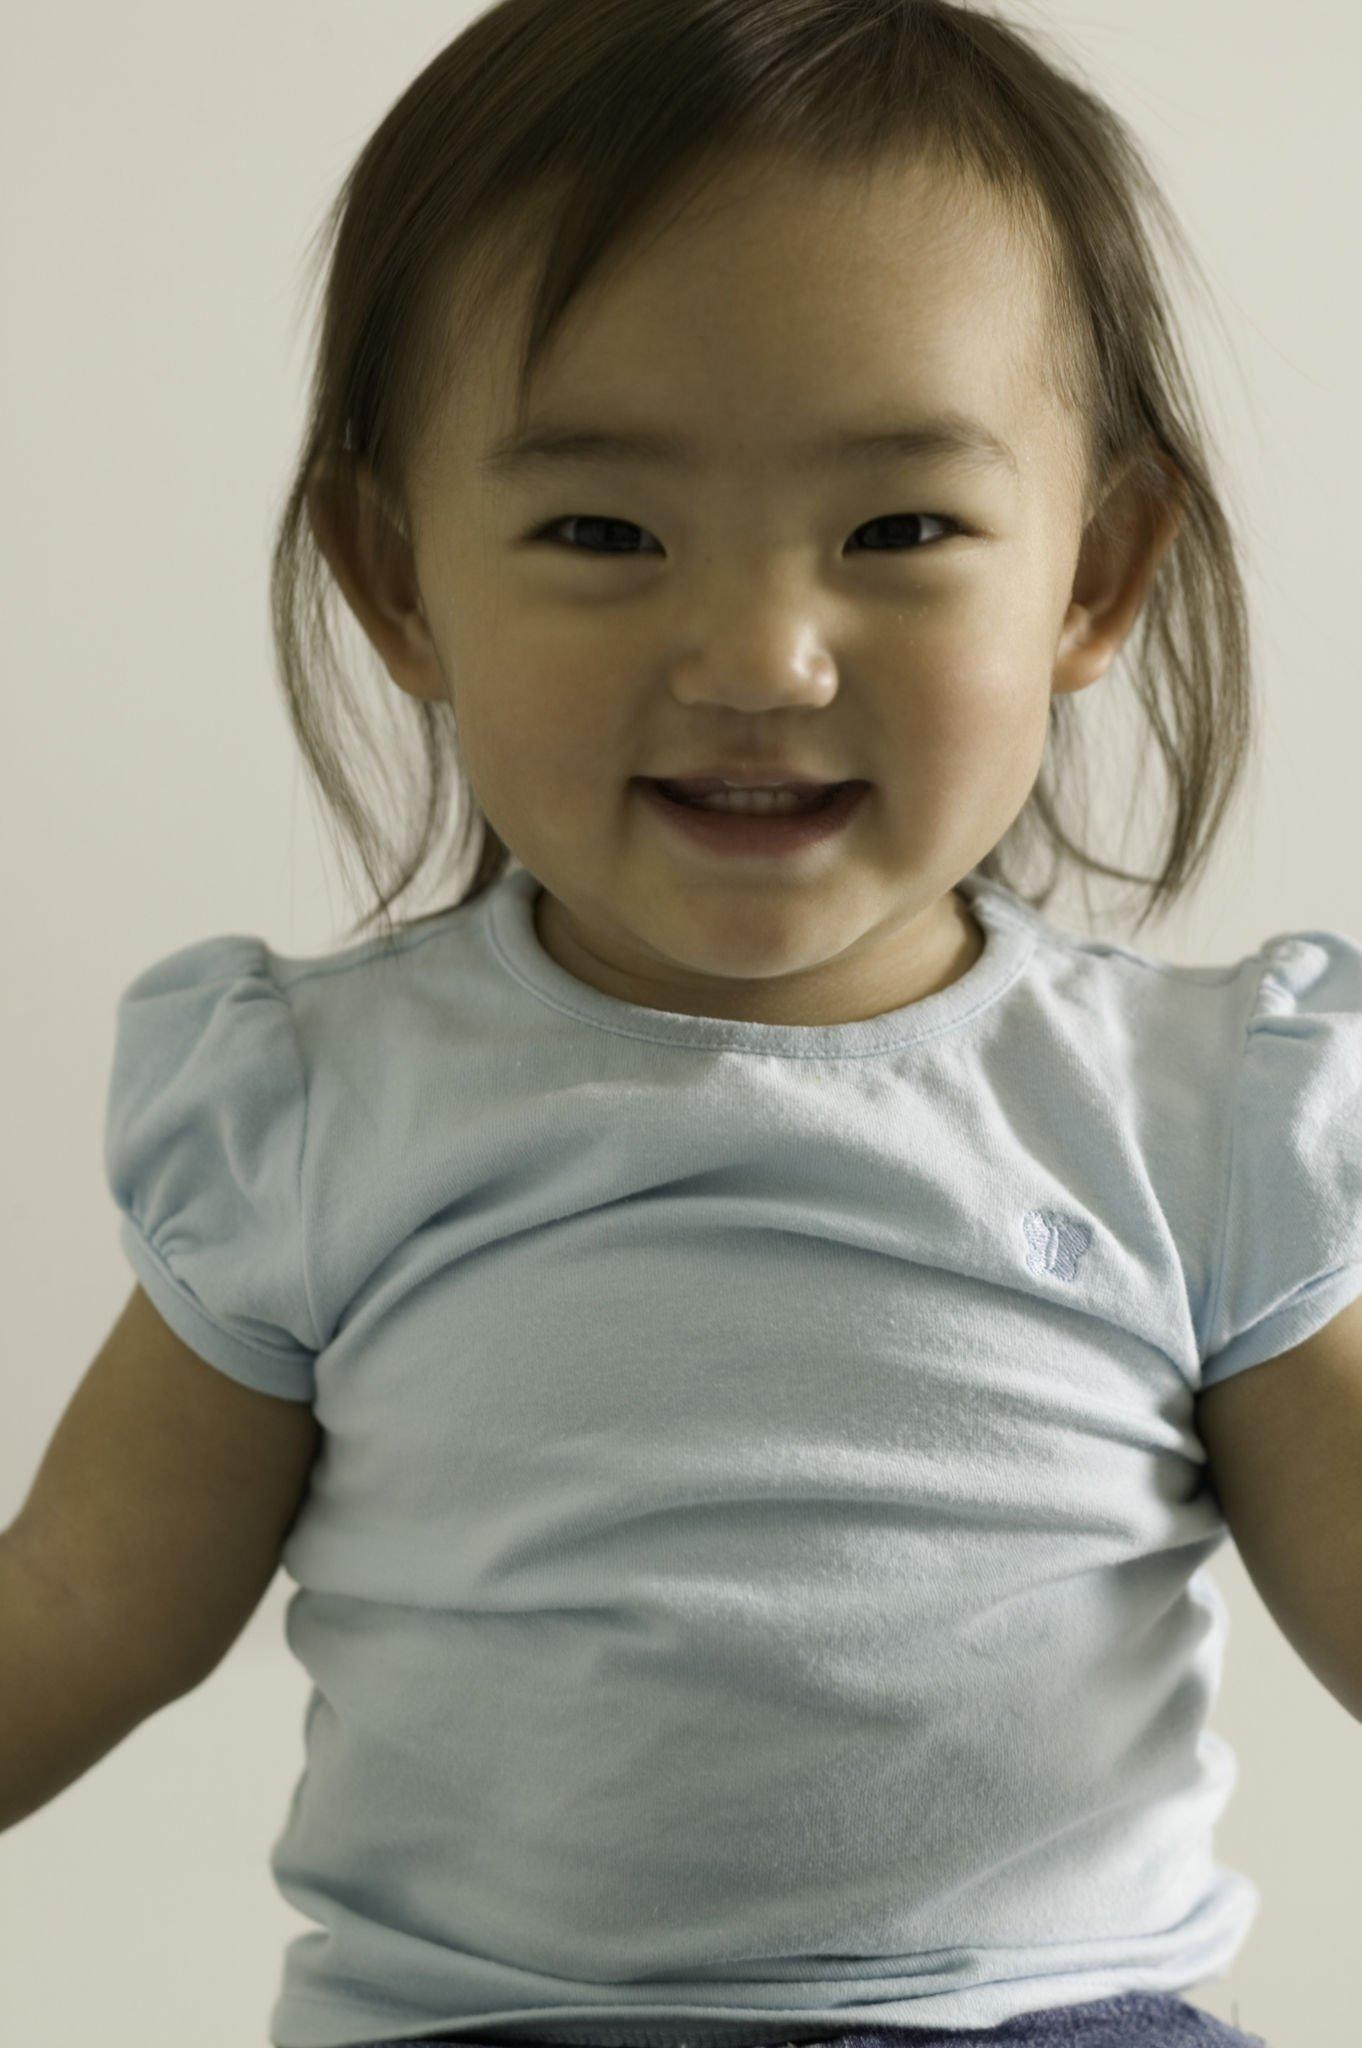Healthy: (327, 211, 1142, 1016)
